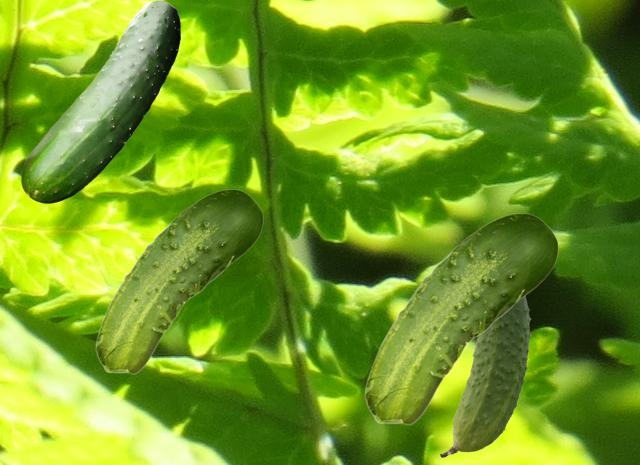cucumber: (364, 213, 557, 424), (21, 0, 179, 202), (95, 189, 262, 373), (440, 297, 530, 456)
